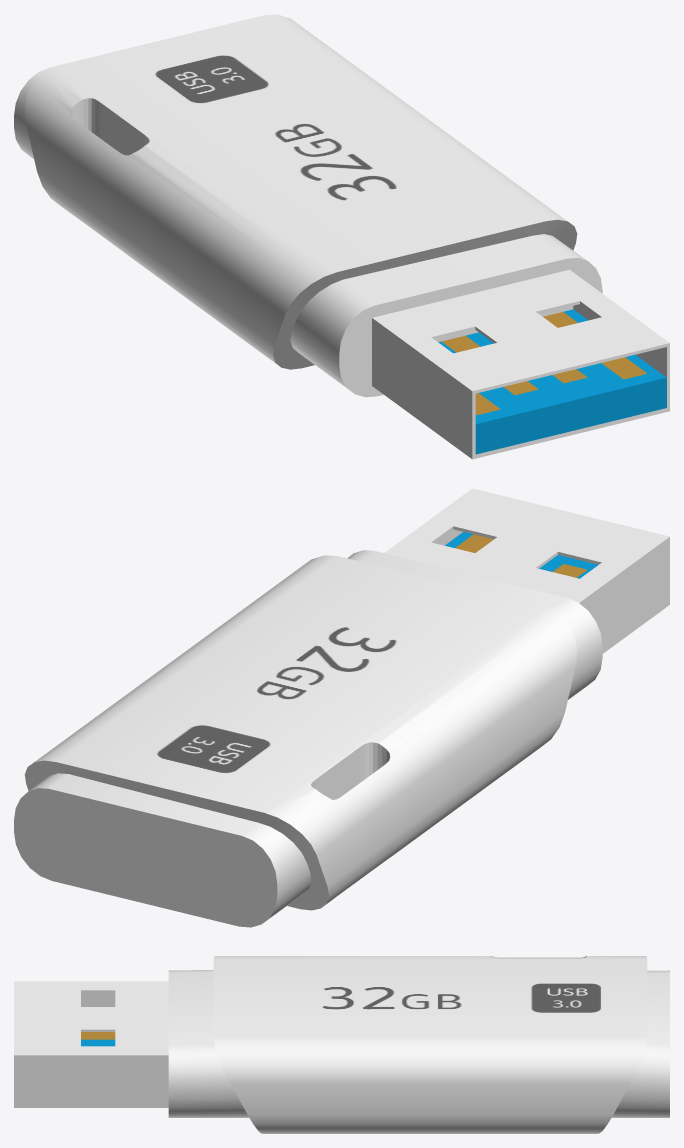
File: usb_body.glb
3 views of the same model, one above another, from view 1: azimuth 30°, elevation 25°; view 2: azimuth 150°, elevation 25°; view 3: azimuth 270°, elevation 25° (orthographic). The views are drawn at different scales.
Visible parts, largest first — view 1: Cube; view 2: Cube; view 3: Cube.
Boxes of the visible parts, <box> form: Cube: <box>14,14,669,459</box>; Cube: <box>14,488,669,927</box>; Cube: <box>14,956,669,1133</box>.
Bounding box in the file's own units: 0.6181 × 0.2436 × 1.57.
4 materials, 1 textured.
